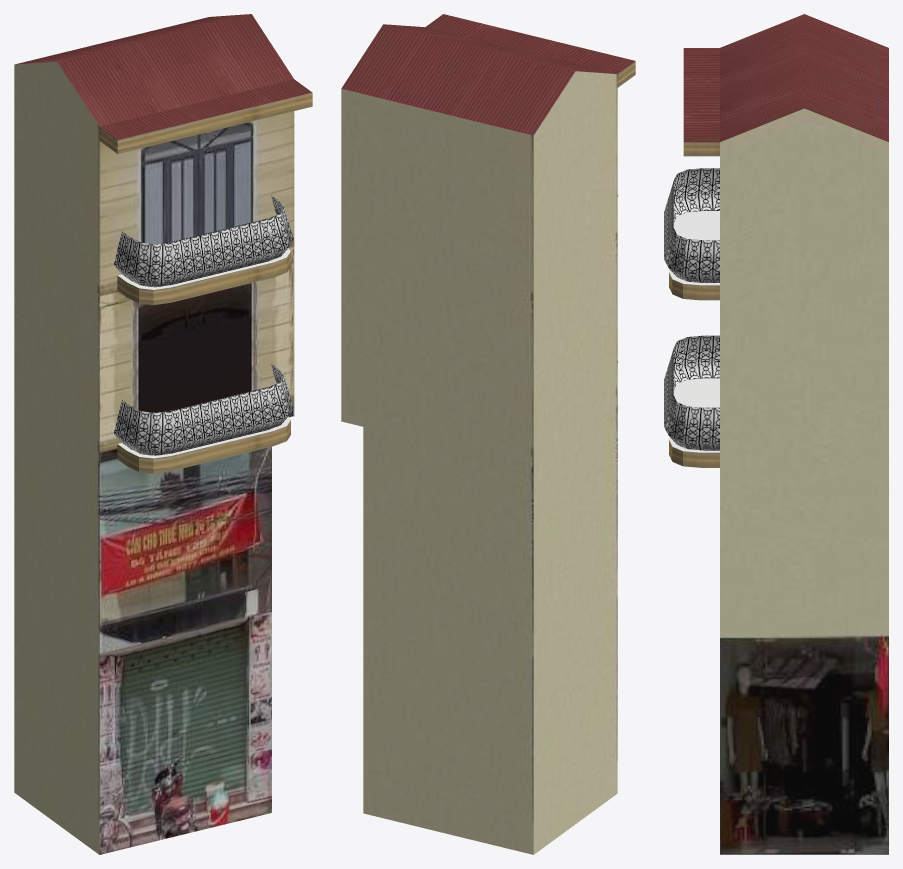
3 views of the same model, side by side, from view 1: azimuth 30°, elevation 25°; view 2: azimuth 150°, elevation 25°; view 3: azimuth 270°, elevation 25° (orthographic).
Parts seen in each view (by area): view 1: HN920___Cho_Thue_Nha; view 2: HN920___Cho_Thue_Nha; view 3: HN920___Cho_Thue_Nha.
Part boxes in pixels (left/top/right/bottom): HN920___Cho_Thue_Nha: left=14, top=14, right=312, bottom=854; HN920___Cho_Thue_Nha: left=341, top=14, right=635, bottom=854; HN920___Cho_Thue_Nha: left=664, top=14, right=888, bottom=854.
Size of the model in its own units: 3.5 by 13.09 by 3.52.
Materials: 1 (1 with a texture image).
